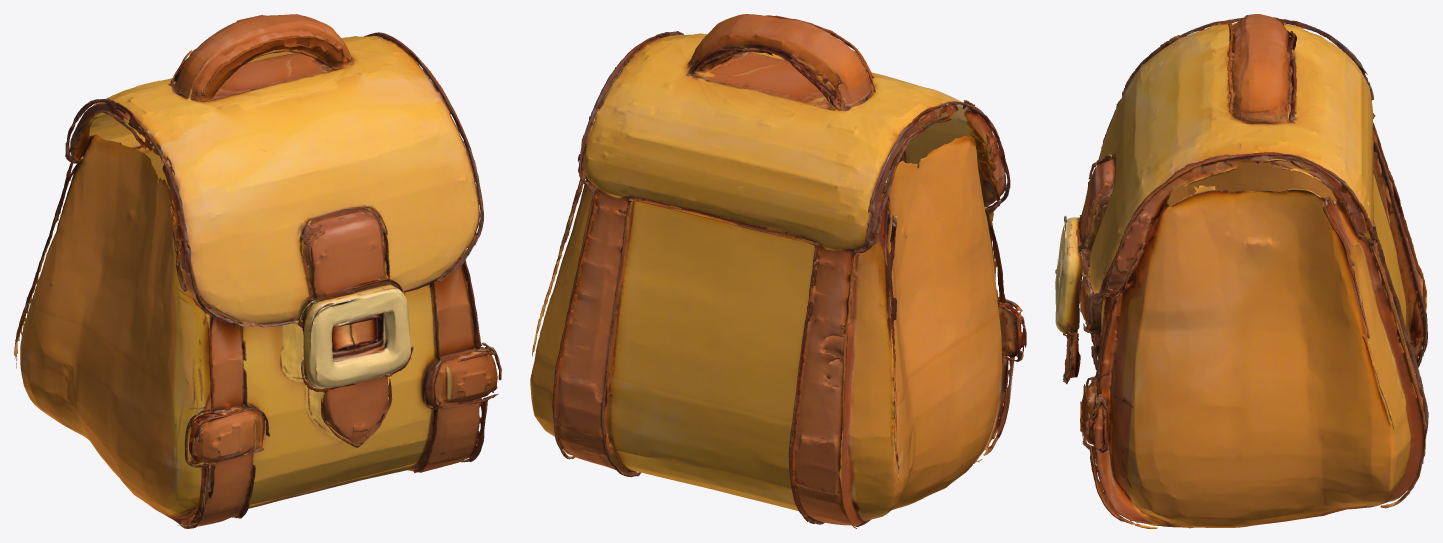
Rendered from backpack.glb.
3 views of the same model, side by side, from view 1: azimuth 30°, elevation 25°; view 2: azimuth 150°, elevation 25°; view 3: azimuth 270°, elevation 25° (orthographic). The views are drawn at different scales.
Bounding box in the file's own units: 1.7 × 1.98 × 1.52.
1 material, 1 textured.
